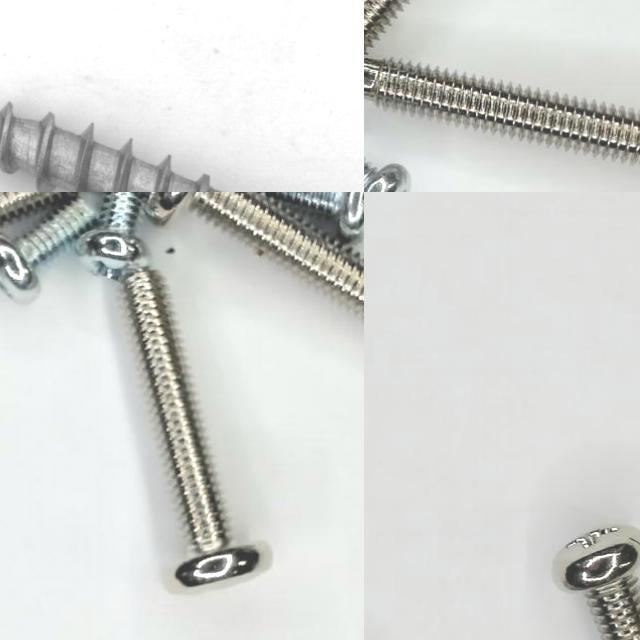Screw: (0, 62, 364, 192), (123, 266, 260, 587), (364, 59, 640, 153), (193, 192, 364, 304), (0, 199, 96, 302), (555, 528, 640, 640), (77, 192, 150, 278), (266, 192, 364, 240), (364, 160, 412, 192)
